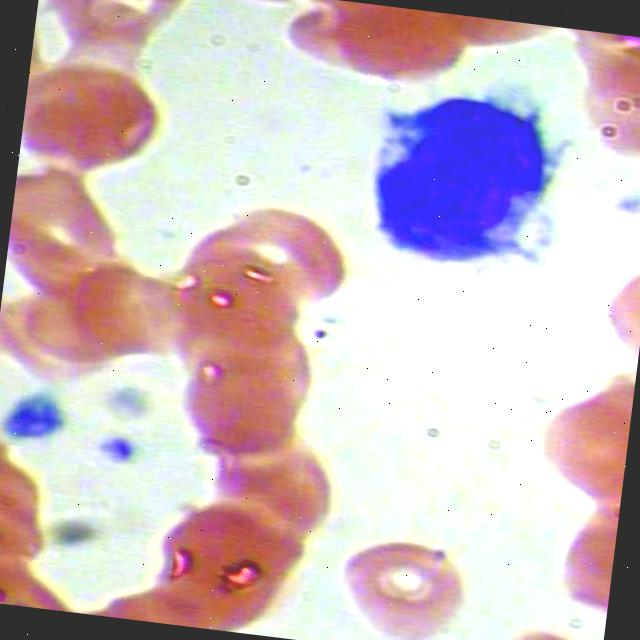Platelets: (0, 382, 68, 446), (85, 428, 139, 472), (603, 179, 640, 223)
RBC: (152, 212, 312, 353), (153, 327, 313, 468), (186, 416, 346, 557), (18, 243, 178, 384), (200, 178, 360, 318), (166, 280, 326, 420), (179, 376, 339, 516), (144, 484, 304, 624), (15, 54, 164, 194), (2, 162, 151, 302), (322, 513, 482, 640), (272, 0, 461, 91), (522, 374, 634, 510)
WBC: (352, 72, 578, 286)
